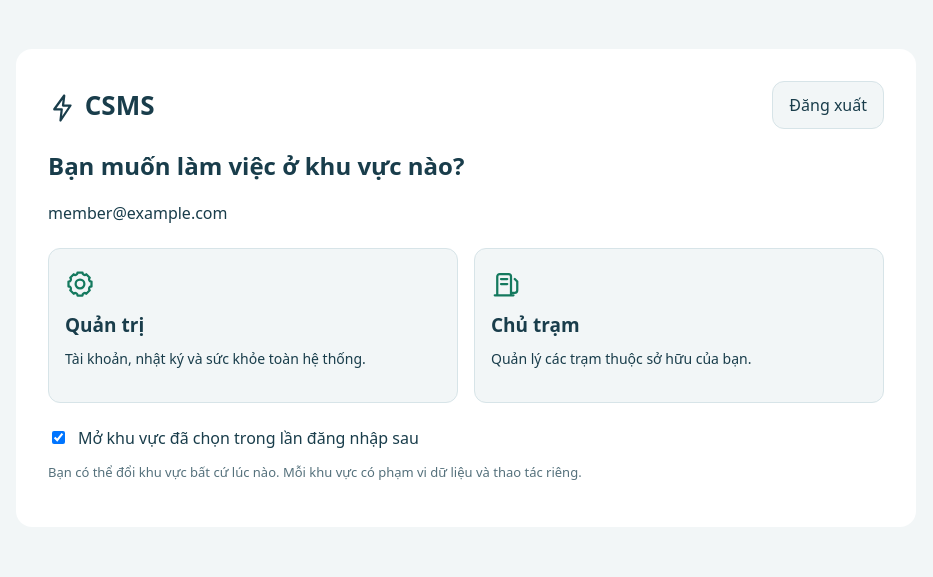
Test case: explicit landing preference › keeps the user on the chooser when saving fails
The width and height of the screenshot is (933, 577).
Step 1. Click the button "Quản trị Tài khoản, nhật ký và sức khỏe toàn hệ thống." → click(105, 324), box [48,248,458,402]
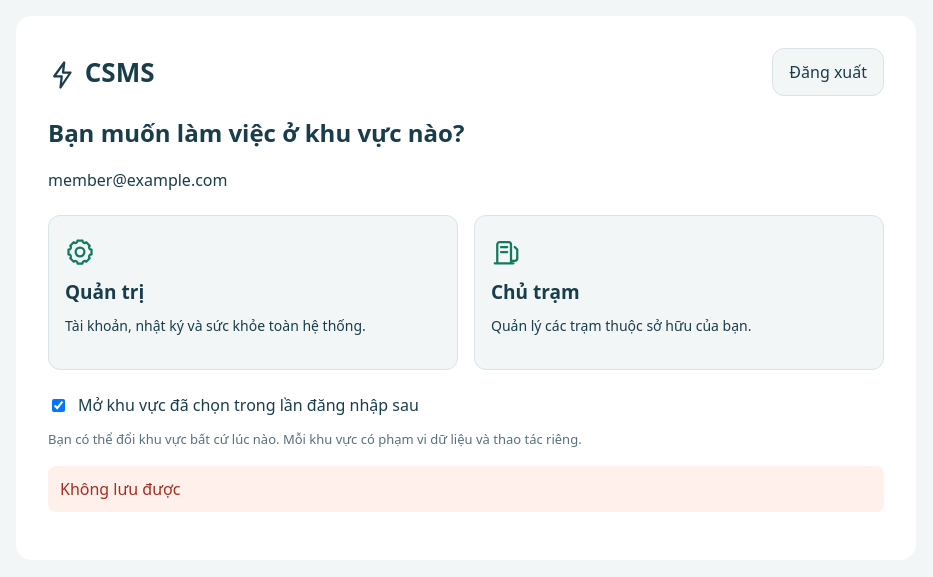
expect the message reads "Không lưu được": met, box [60,478,180,500]
